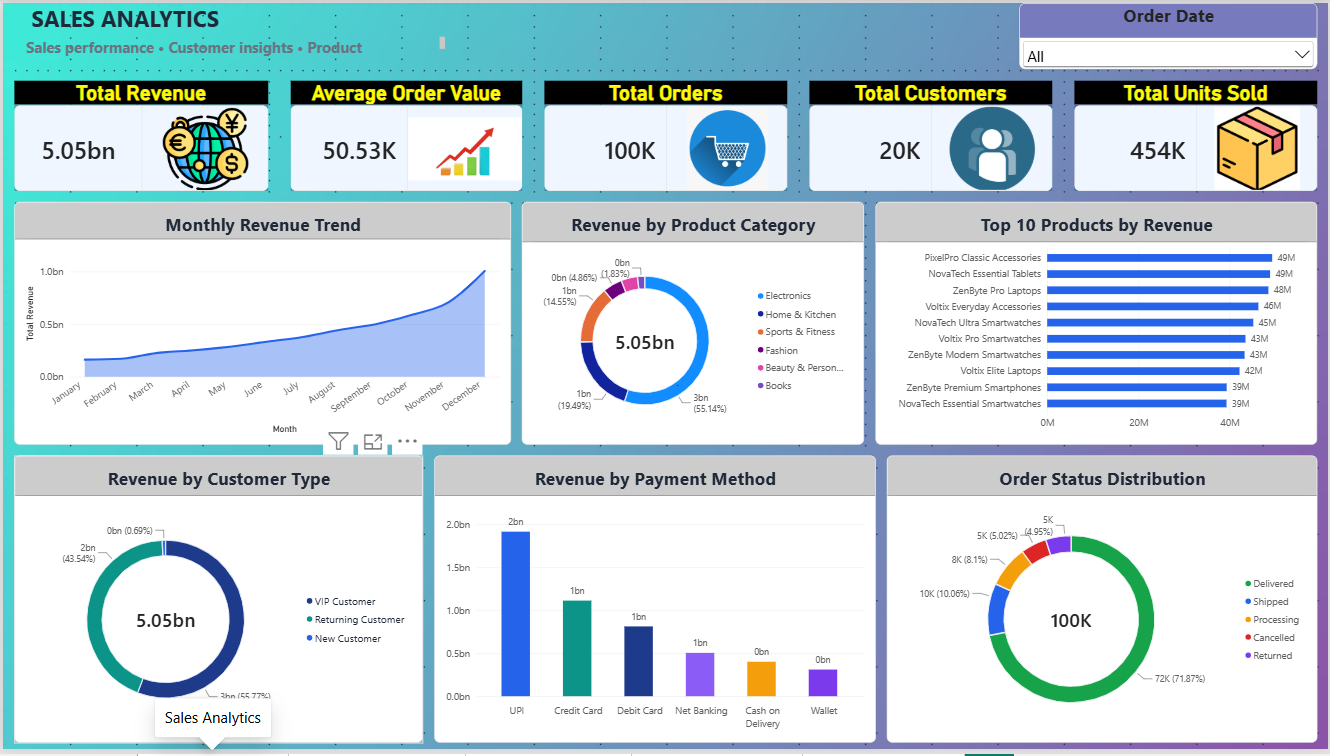

The page's visual inventory and layout, read from the dashboard file:
{"tool":"powerbi","page":{"name":"Sales Analytics","canvas":[1920,1080],"ordinal":0},"visuals":[{"type":"cardVisual","title":"Total Revenue","fields":{"Data":["public order_items.Total Revenue"]},"box":[16,112,368,160],"z":0},{"type":"cardVisual","title":"Total Orders","fields":{"Data":["public orders.Total Orders"]},"box":[784,112,352,160],"z":1000},{"type":"cardVisual","title":"Total Customers","fields":{"Data":["public customers.Total Customers"]},"box":[1168,112,352,160],"z":2000},{"type":"cardVisual","title":"Total Units Sold","fields":{"Data":["public order_items.Total Units Sold"]},"box":[1552,112,352,160],"z":3000},{"type":"cardVisual","title":"Average Order Value","fields":{"Data":["public order_items.Average Order Value"]},"box":[416,112,336,160],"z":4000},{"type":"areaChart","title":"Monthly Revenue Trend","fields":{"Category":["public orders.order_date.Variation.Date Hierarchy.Month"],"Y":["public order_items.Total Revenue"]},"box":[16,288,720,352],"z":5000},{"type":"donutChart","title":"Revenue by Product Category","fields":{"Category":["public products.category"],"Y":["public order_items.Total Revenue"]},"box":[752,288,496,352],"z":6000},{"type":"clusteredBarChart","title":"Top 10 Products by Revenue","fields":{"Category":["public products.product_name"],"Y":["public order_items.Total Revenue"]},"box":[1264,288,640,352],"z":7000},{"type":"donutChart","title":"Revenue by Customer Type","fields":{"Category":["public customers.customer_type"],"Y":["public order_items.Total Revenue"]},"box":[16,656,592,416],"z":8000},{"type":"clusteredColumnChart","title":"Revenue by Payment Method","fields":{"Category":["public payments.payment_method"],"Y":["public order_items.Total Revenue"]},"box":[624,656,640,416],"z":9000},{"type":"donutChart","title":"Order Status Distribution","fields":{"Category":["public orders.order_status"],"Y":["public orders.Total Orders"]},"box":[1280,656,624,416],"z":10000},{"type":"slicer","title":"Order Date","fields":{"Values":["public orders.order_date"]},"box":[1472,0,432,96],"z":11000},{"type":"textbox","box":[32,0,352,64],"z":12000},{"type":"textbox","box":[626.8,539.3,701.8,91.1],"z":13000},{"type":"textbox","box":[32,48,608,32],"z":14000}]}

Visuals, with their boxes in screenshot pixels (x1, y1, x2, y2), scaled from the page's 1920x1080 canvas onto the 1330x756 screenshot:
"Total Revenue" cardVisual: bbox=(11, 78, 266, 190)
"Total Orders" cardVisual: bbox=(543, 78, 787, 190)
"Total Customers" cardVisual: bbox=(809, 78, 1053, 190)
"Total Units Sold" cardVisual: bbox=(1075, 78, 1319, 190)
"Average Order Value" cardVisual: bbox=(288, 78, 521, 190)
"Monthly Revenue Trend" areaChart: bbox=(11, 202, 510, 448)
"Revenue by Product Category" donutChart: bbox=(521, 202, 864, 448)
"Top 10 Products by Revenue" clusteredBarChart: bbox=(876, 202, 1319, 448)
"Revenue by Customer Type" donutChart: bbox=(11, 459, 421, 750)
"Revenue by Payment Method" clusteredColumnChart: bbox=(432, 459, 876, 750)
"Order Status Distribution" donutChart: bbox=(887, 459, 1319, 750)
"Order Date" slicer: bbox=(1020, 0, 1319, 67)
textbox: bbox=(22, 0, 266, 45)
textbox: bbox=(434, 378, 920, 441)
textbox: bbox=(22, 34, 443, 56)
